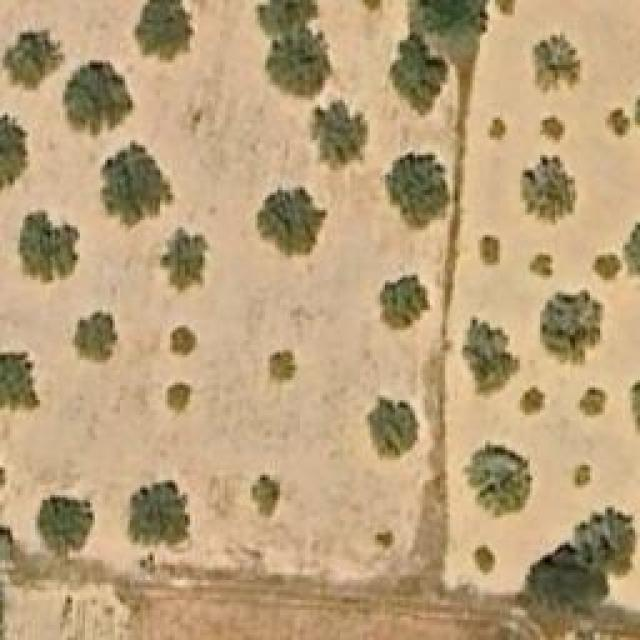Tree: (260, 0, 333, 95), (518, 543, 610, 617), (100, 143, 173, 223), (255, 185, 328, 260), (380, 152, 450, 230), (463, 440, 533, 518), (565, 507, 640, 575), (540, 290, 605, 368), (65, 63, 133, 136), (460, 318, 520, 398), (520, 155, 578, 228), (0, 30, 65, 93), (130, 480, 190, 548), (20, 210, 78, 280), (393, 35, 448, 108), (35, 497, 93, 565), (135, 0, 195, 62), (160, 228, 208, 301), (533, 33, 586, 96), (365, 398, 418, 461), (378, 275, 431, 335), (315, 100, 365, 163), (418, 0, 493, 38), (0, 353, 40, 413), (73, 313, 118, 366), (0, 113, 28, 196), (253, 475, 283, 515), (593, 248, 624, 282), (270, 350, 298, 383), (165, 383, 193, 416), (517, 385, 545, 418), (578, 388, 608, 418), (608, 103, 631, 139), (527, 252, 555, 280), (478, 235, 501, 268), (473, 543, 496, 576), (170, 328, 195, 358), (540, 118, 565, 143), (488, 118, 508, 143), (573, 463, 593, 488), (375, 530, 393, 548)
